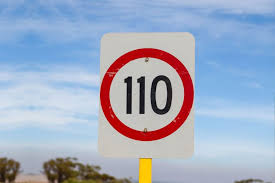Speed_limit_110km: (99, 48, 195, 142)
